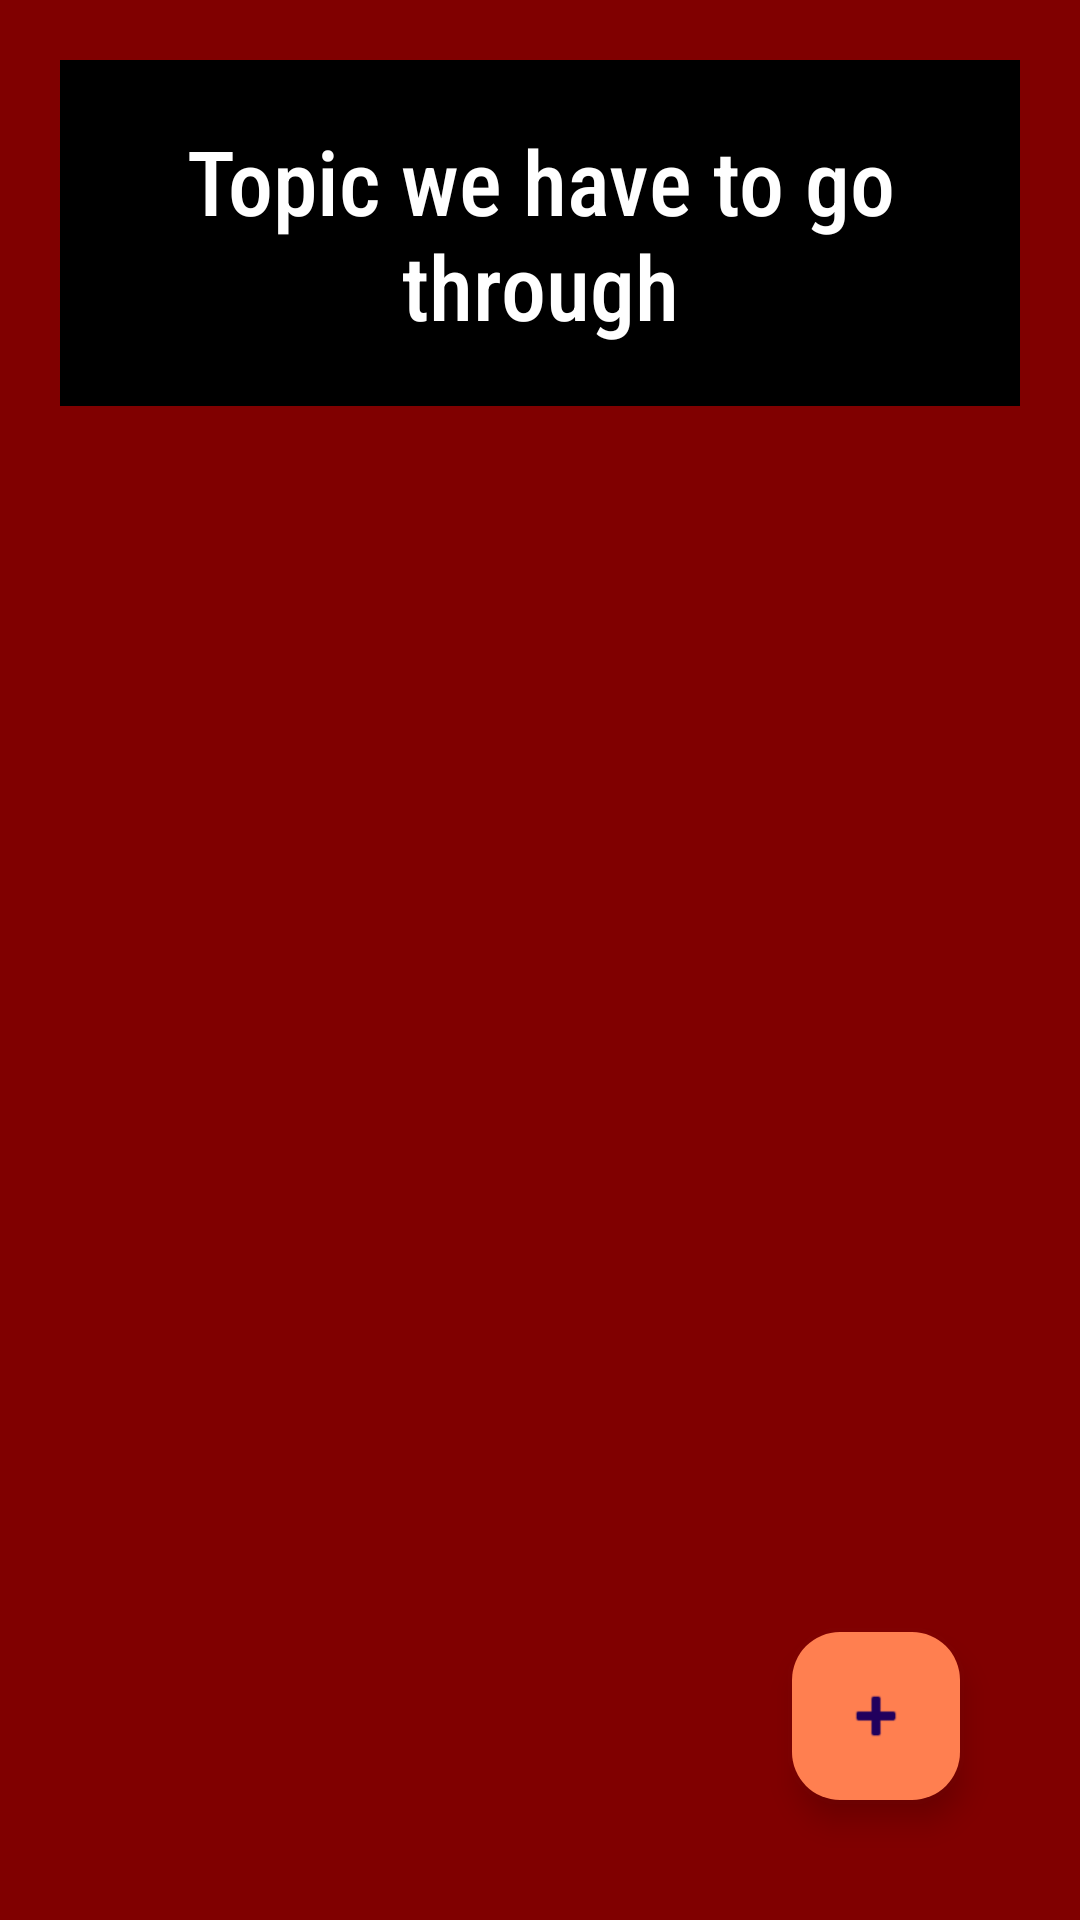

Locate icon controls on the screen. Image size 1080*1920, boxes as bbox=(x1, y1, x2, y2).
add: bbox=(792, 1632, 960, 1800)
